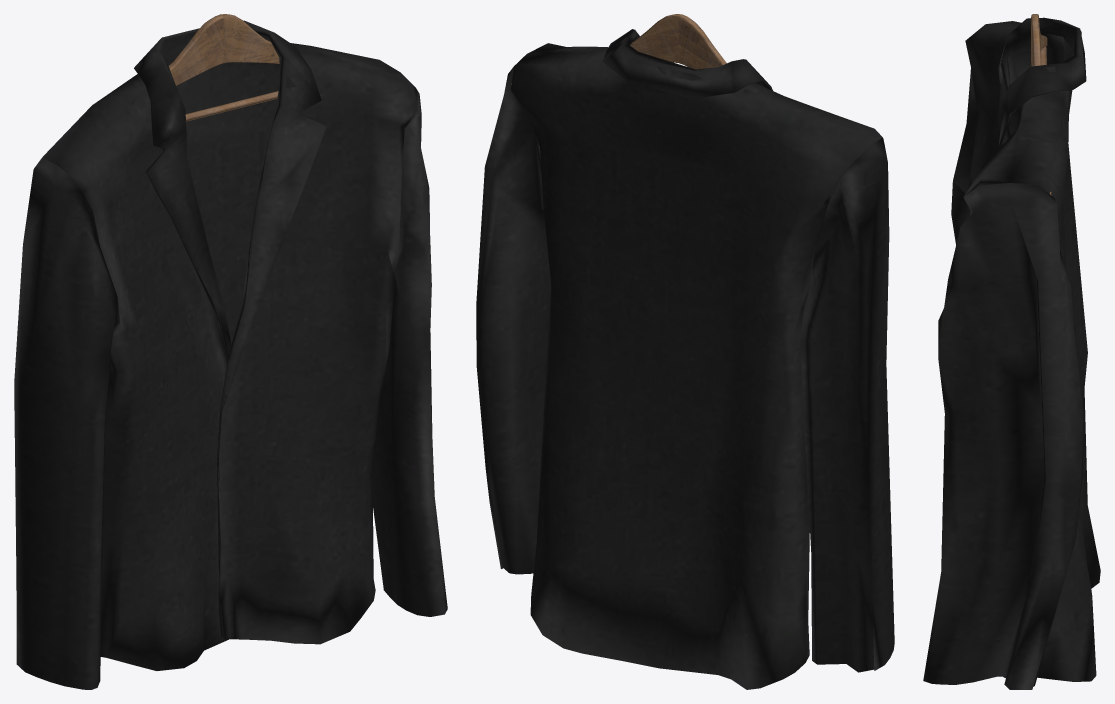
File: hvtop_jacket_016.glb
The picture shows the model from 3 angles, left to right: view 1: azimuth 30°, elevation 25°; view 2: azimuth 150°, elevation 25°; view 3: azimuth 270°, elevation 25°; orthographic projection. The views are drawn at different scales.
Visible parts, largest first — view 1: jacket_016_StaticMeshComponent0; view 2: jacket_016_StaticMeshComponent0; view 3: jacket_016_StaticMeshComponent0.
Part boxes in pixels (left/top/right/bottom): jacket_016_StaticMeshComponent0: left=14, top=14, right=447, bottom=689; jacket_016_StaticMeshComponent0: left=476, top=14, right=894, bottom=689; jacket_016_StaticMeshComponent0: left=923, top=14, right=1100, bottom=689.
Size of the model in its own units: 0.5263 by 0.8211 by 0.2122.
2 materials, 2 textured.
